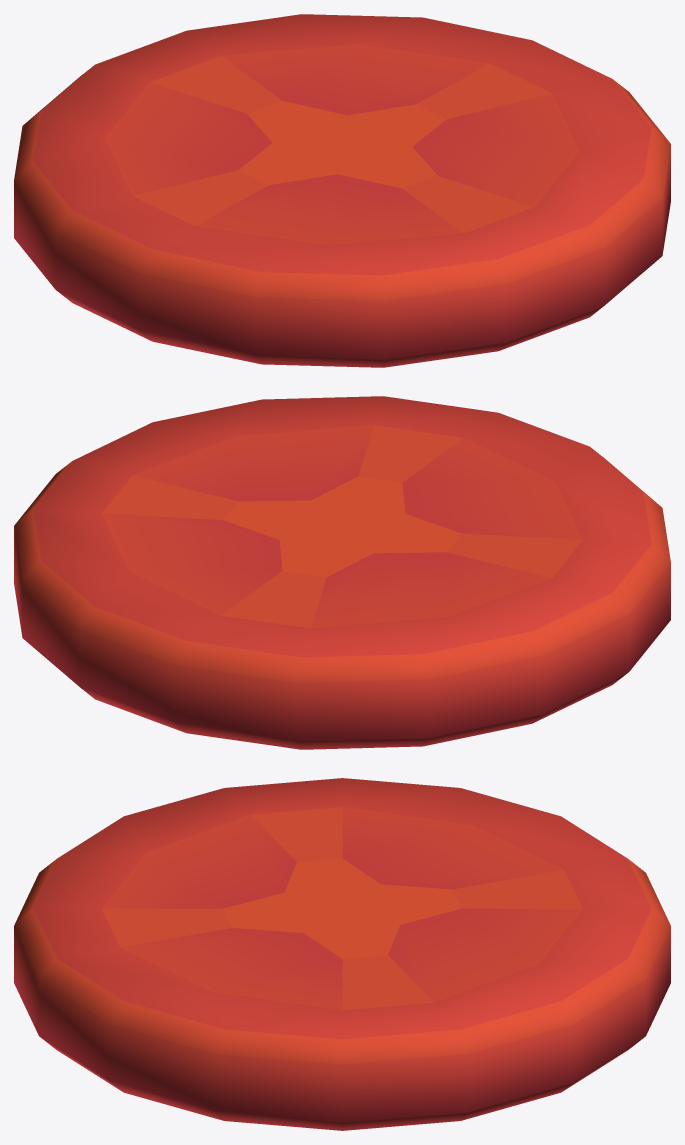
Rendered from tomato.glb.
3 renders of one model, top to bottom at view 1: azimuth 30°, elevation 25°; view 2: azimuth 150°, elevation 25°; view 3: azimuth 270°, elevation 25°, orthographic.
Parts seen in each view (by area): view 1: food_ingredient_tomato_slice; view 2: food_ingredient_tomato_slice; view 3: food_ingredient_tomato_slice.
Boxes of the visible parts, bbox=[...] form: food_ingredient_tomato_slice: bbox=[14, 14, 670, 367]; food_ingredient_tomato_slice: bbox=[14, 396, 670, 749]; food_ingredient_tomato_slice: bbox=[14, 778, 670, 1130].
Bounding box in the file's own units: 0.65 × 0.1 × 0.65.
1 material, 1 textured.
